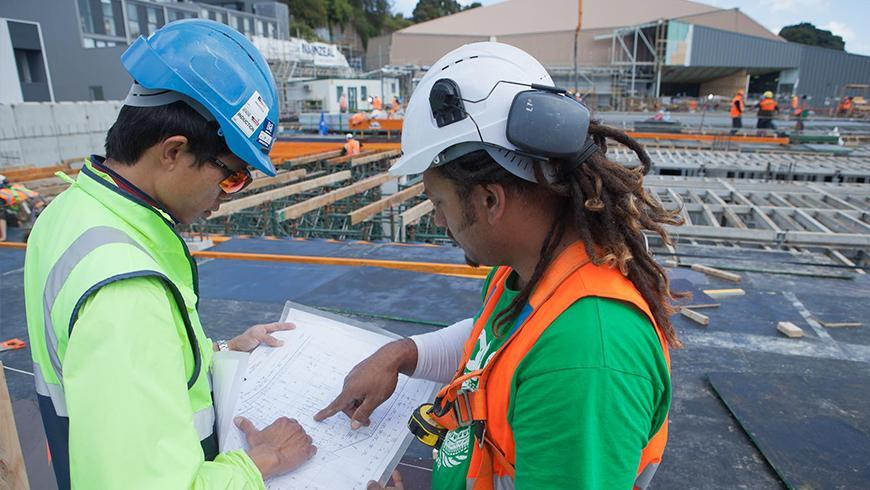helmet: (385, 43, 595, 185), (120, 16, 303, 177)
person: (384, 24, 684, 490), (26, 10, 309, 485), (728, 87, 748, 129)
vest: (32, 180, 229, 484), (452, 263, 673, 490)
